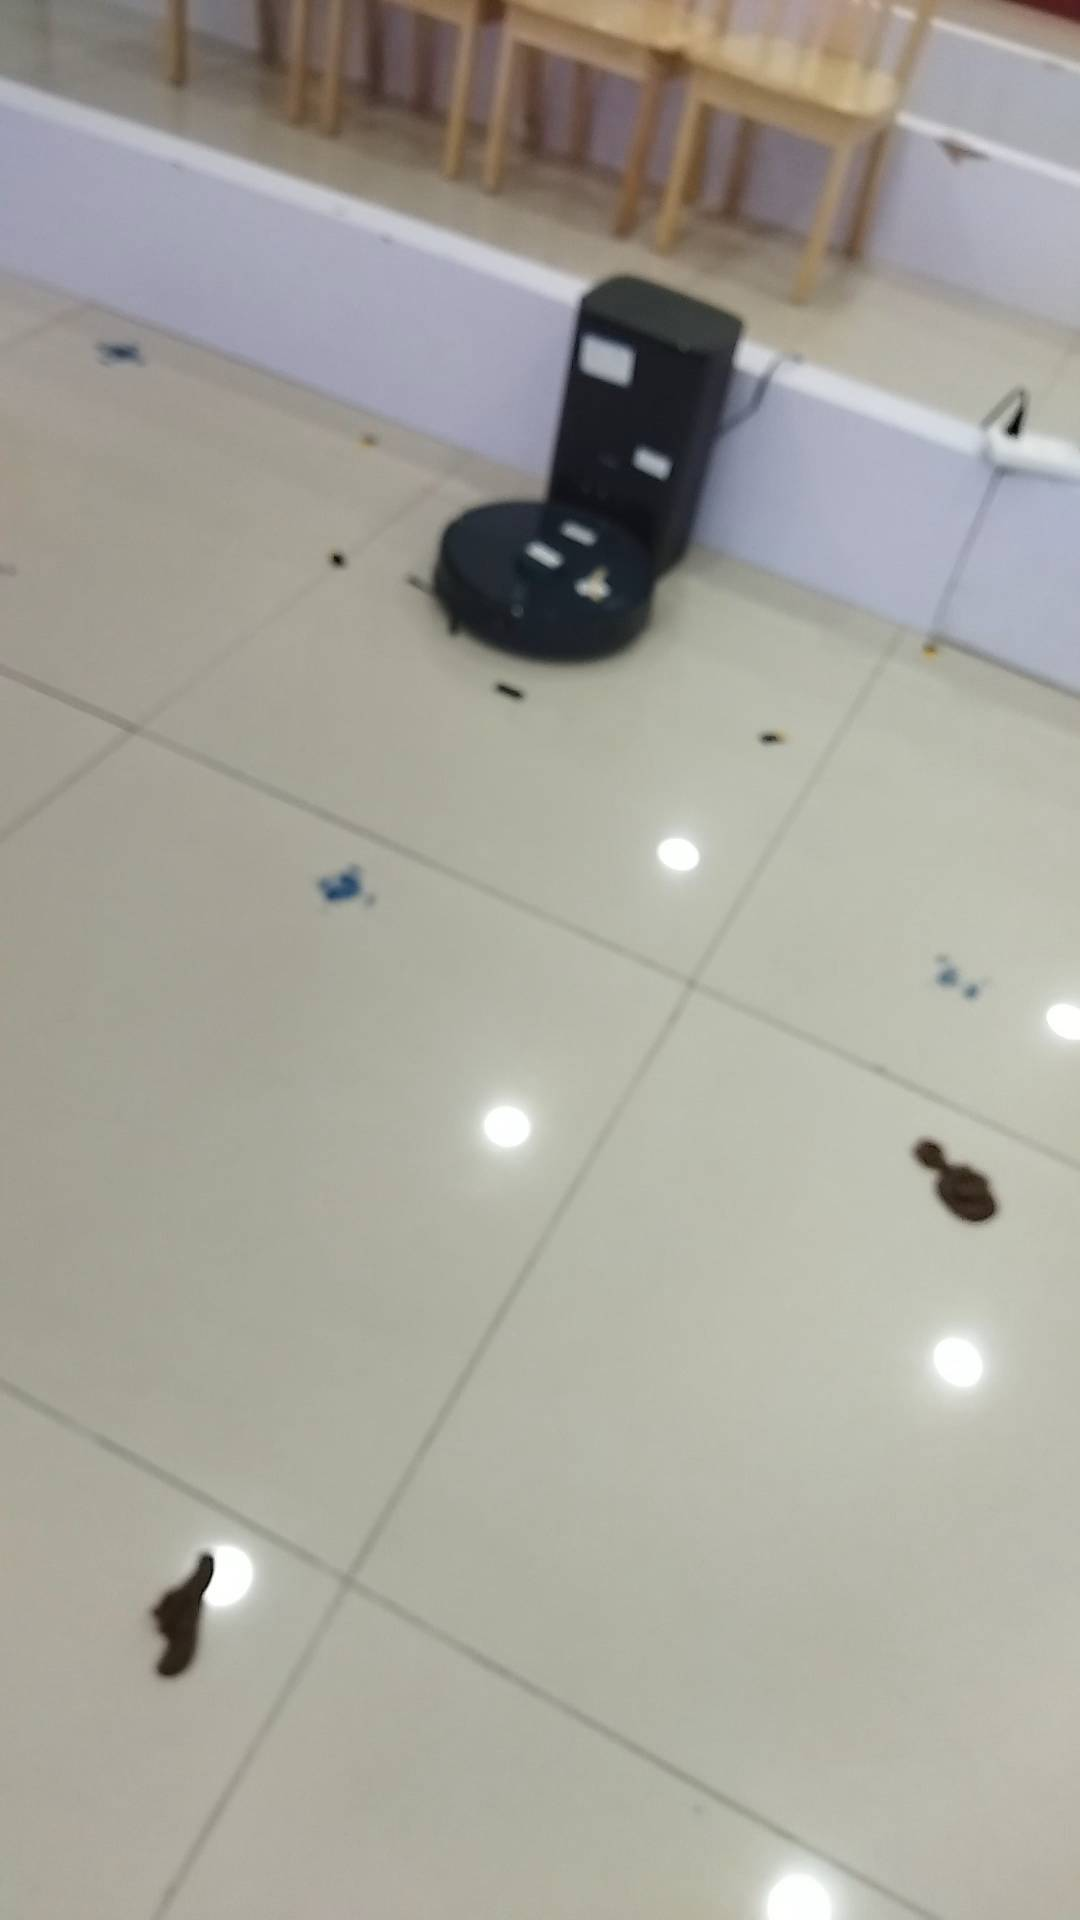dust collecting barrel: (545, 274, 742, 578)
